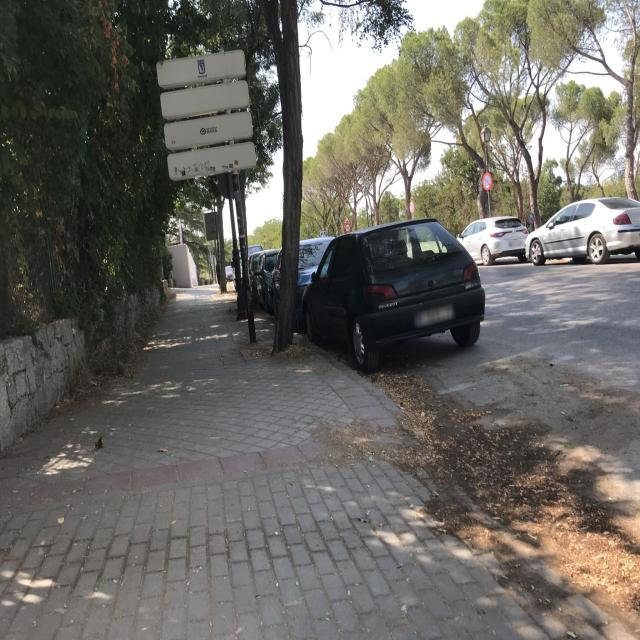forb_stopping: (482, 172, 492, 191)
